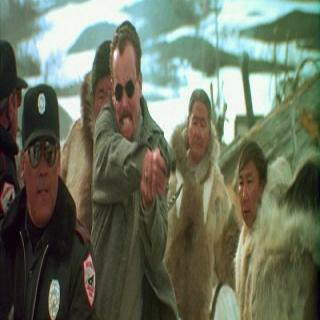gun: (148, 120, 178, 196)
